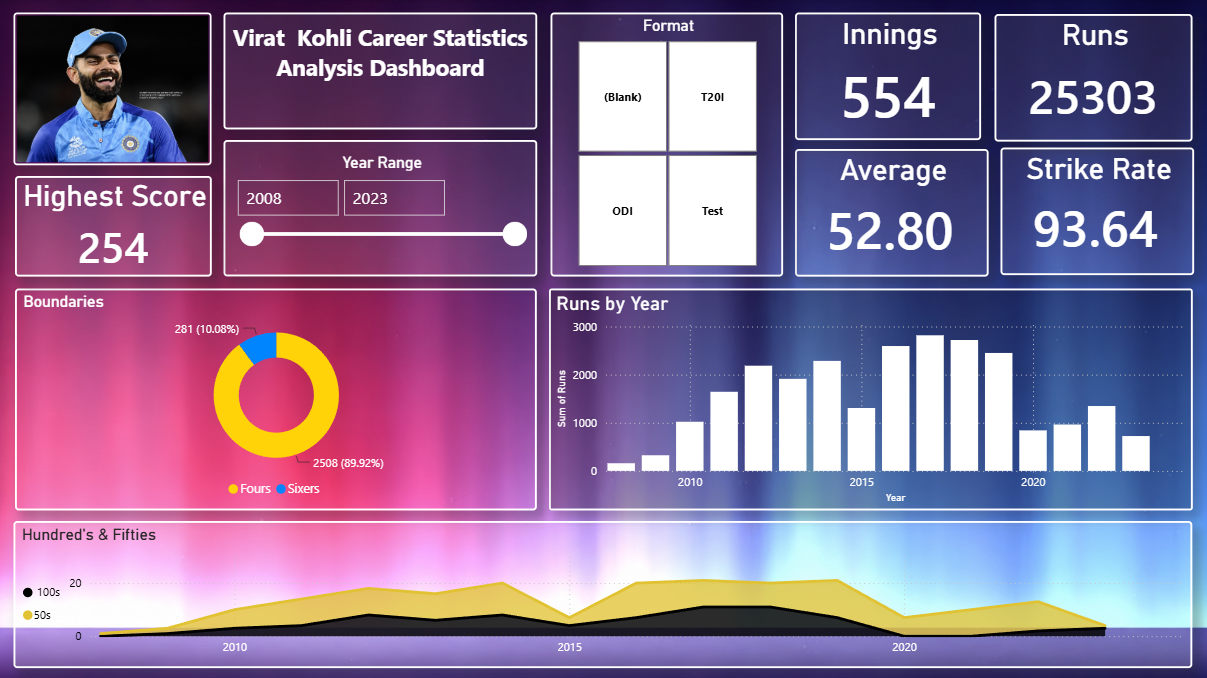

This screenshot's page, from the dashboard's own definition file:
{"tool":"powerbi","page":{"name":"Page 1","canvas":[1280,720],"ordinal":0},"visuals":[{"type":"image","box":[14.3,14.3,210,162.2],"z":0},{"type":"textbox","box":[237,14.3,332.4,124.1],"z":1000},{"type":"cardVisual","title":"Innings","fields":{"Data":["Sum(Overall.Innings)"]},"box":[843,14.3,197.2,135.2],"z":2000},{"type":"cardVisual","title":"Runs","fields":{"Data":["Sum(Overall.Runs)"]},"box":[1054.6,15.9,210,135.2],"z":3000},{"type":"cardVisual","title":"Average","fields":{"Data":["Avg(Overall.Avg)"]},"box":[843,159.1,205.2,135.2],"z":4000},{"type":"cardVisual","title":"Strike Rate","fields":{"Data":["Avg(Overall.SR)"]},"box":[1060.9,157.5,205.2,135.2],"z":5000},{"type":"slicer","title":"Format","fields":{"Values":["Overall.Format"]},"box":[583.8,14.3,246.5,279.9],"z":6000},{"type":"slicer","title":"Year Range","fields":{"Values":["Overall.Year"]},"box":[237,149.5,332.4,144.7],"z":7000},{"type":"clusteredColumnChart","title":" Runs by Year","fields":{"Category":["Overall.Year"],"Y":["Sum(Overall.Runs)"]},"box":[582.2,307,682.4,235.4],"z":8000},{"type":"donutChart","title":"Boundaries","fields":{"Y":["Sum(Overall.4s)","Sum(Overall.6s)"]},"box":[15.9,307,553.5,235.4],"z":9000},{"type":"cardVisual","title":"Highest Score","fields":{"Data":["Max(Overall.HS)"]},"box":[15.9,187.7,208.4,106.6],"z":10000},{"type":"stackedAreaChart","title":"Hundred''s & Fifties","fields":{"Category":["Overall.Year"],"Y":["Sum(Overall.100)","Sum(Overall.50)"]},"box":[14.3,553.5,1250.2,155.9],"z":11000}]}

Visuals, with their boxes in screenshot pixels (x1, y1, x2, y2), scaled from the page's 1280x720 canvas onto the 1207x678 screenshot:
image: {"left": 13, "top": 13, "right": 212, "bottom": 166}
textbox: {"left": 223, "top": 13, "right": 537, "bottom": 130}
"Innings" cardVisual: {"left": 795, "top": 13, "right": 981, "bottom": 141}
"Runs" cardVisual: {"left": 994, "top": 15, "right": 1192, "bottom": 142}
"Average" cardVisual: {"left": 795, "top": 150, "right": 988, "bottom": 277}
"Strike Rate" cardVisual: {"left": 1000, "top": 148, "right": 1194, "bottom": 276}
"Format" slicer: {"left": 551, "top": 13, "right": 783, "bottom": 277}
"Year Range" slicer: {"left": 223, "top": 141, "right": 537, "bottom": 277}
" Runs by Year" clusteredColumnChart: {"left": 549, "top": 289, "right": 1192, "bottom": 511}
"Boundaries" donutChart: {"left": 15, "top": 289, "right": 537, "bottom": 511}
"Highest Score" cardVisual: {"left": 15, "top": 177, "right": 212, "bottom": 277}
"Hundred''s & Fifties" stackedAreaChart: {"left": 13, "top": 521, "right": 1192, "bottom": 668}
